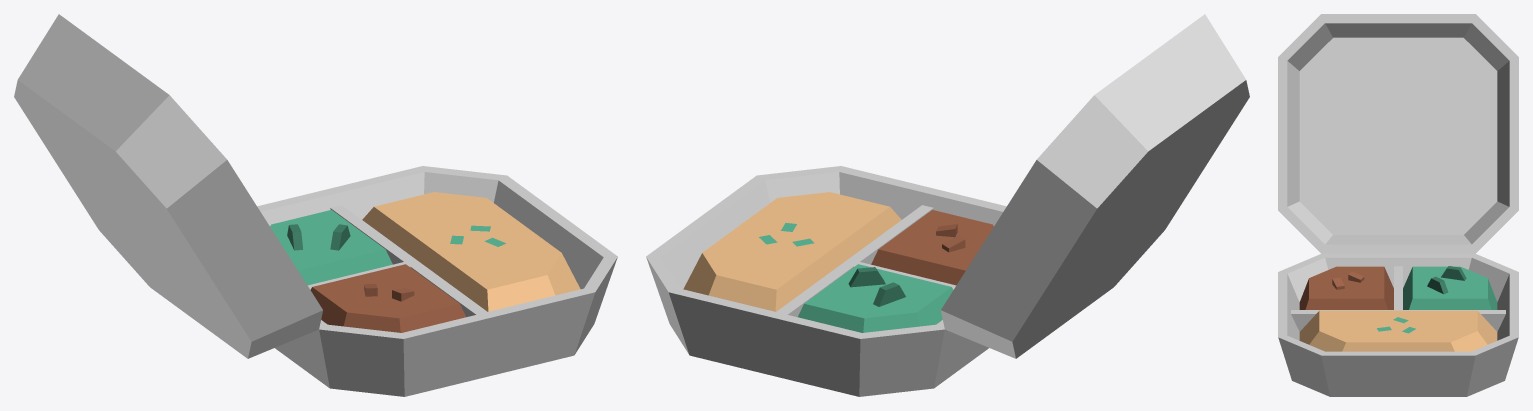
The model's file is styrofoamDinner.fbx.
3 views of the same model, side by side, from view 1: azimuth 30°, elevation 25°; view 2: azimuth 150°, elevation 25°; view 3: azimuth 270°, elevation 25° (orthographic). The views are drawn at different scales.
Visible parts, largest first — view 1: styrofoamDinner, lid; view 2: styrofoamDinner, lid; view 3: lid, styrofoamDinner.
Boxes of the visible parts, <box> form: styrofoamDinner: <box>257,166,617,396</box>; lid: <box>14,14,322,358</box>; styrofoamDinner: <box>646,166,1006,396</box>; lid: <box>941,14,1249,358</box>; lid: <box>1278,14,1518,253</box>; styrofoamDinner: <box>1278,253,1518,396</box>.
Bounding box in the file's own units: 12.59 × 8.22 × 7.59.
